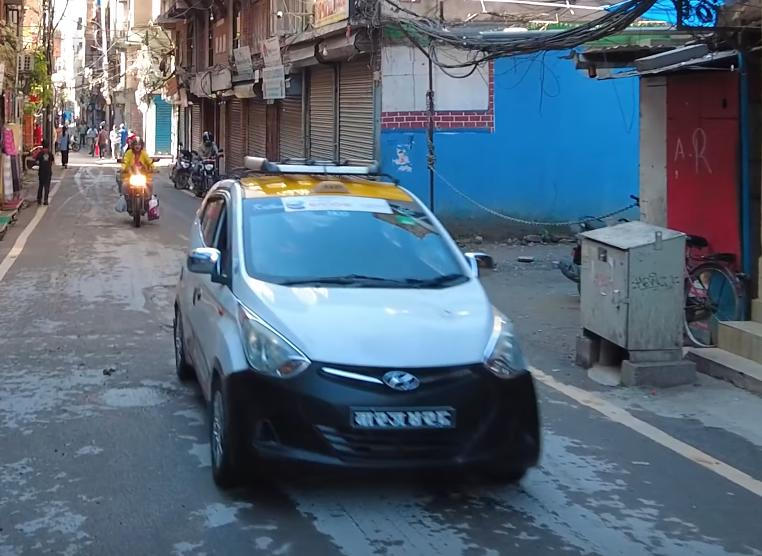bike: (117, 153, 162, 233), (193, 147, 222, 197)
taxi: (159, 149, 561, 514)
